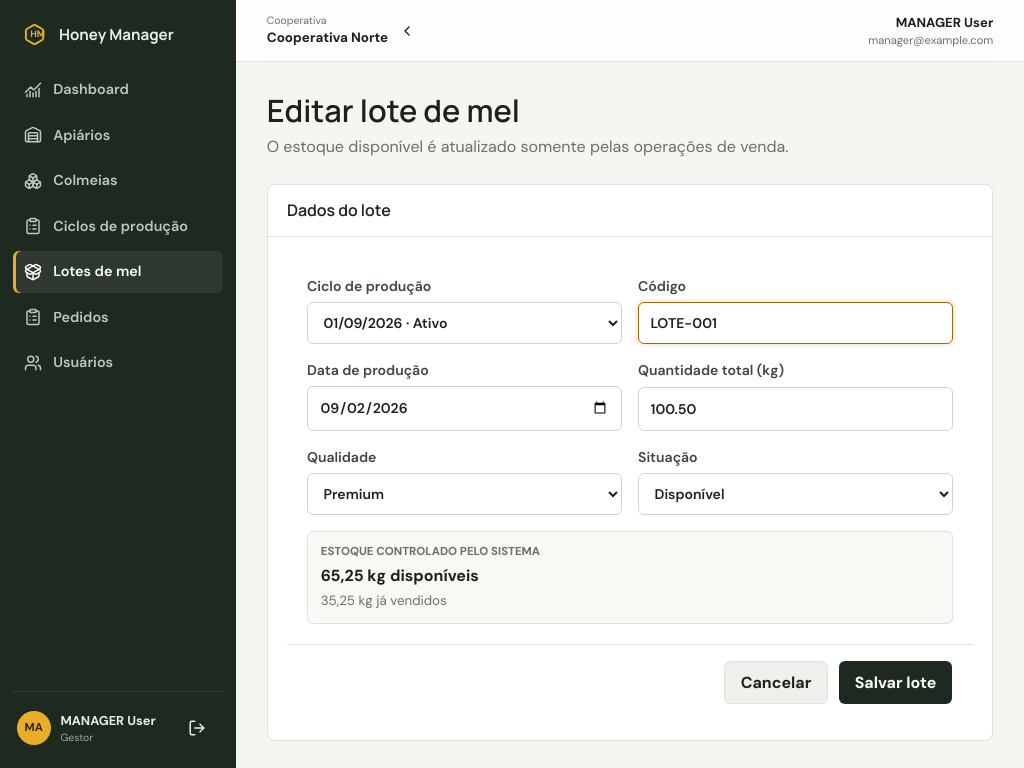
Honey Batch management › prevents reducing total quantity below stock already sold
Replace the text in the field labelled "Quantidade total (kg)" with "35.24": (796, 409) [638,387,953,430]
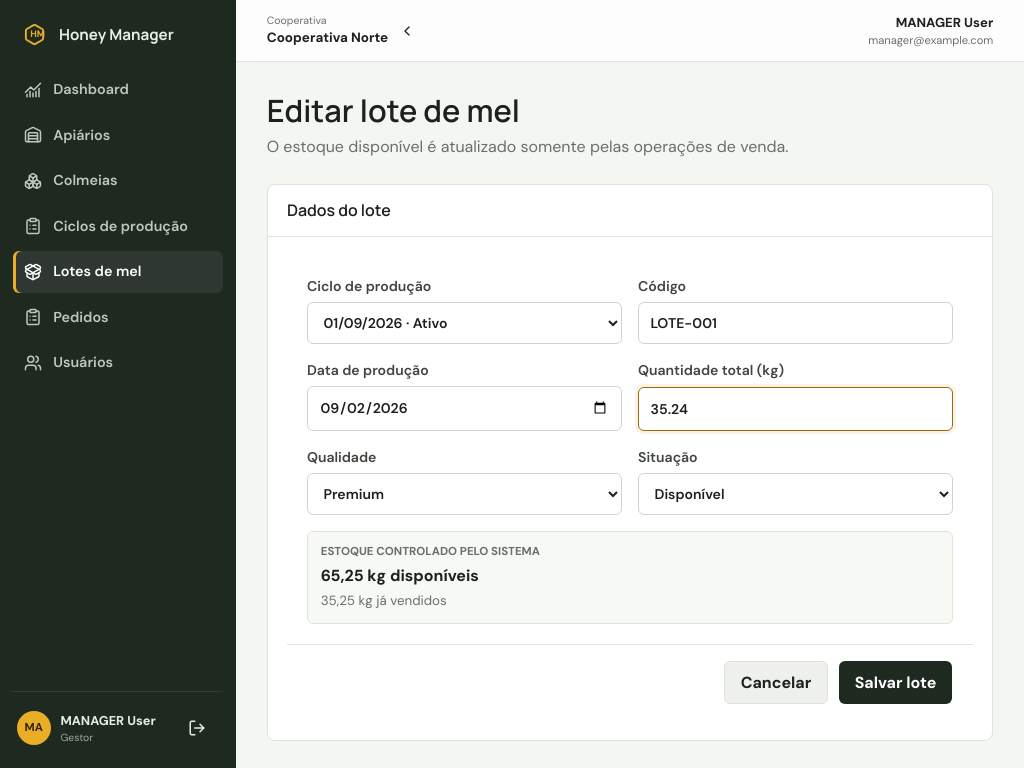
Click the button "Salvar lote": (896, 683) [839,661,952,704]
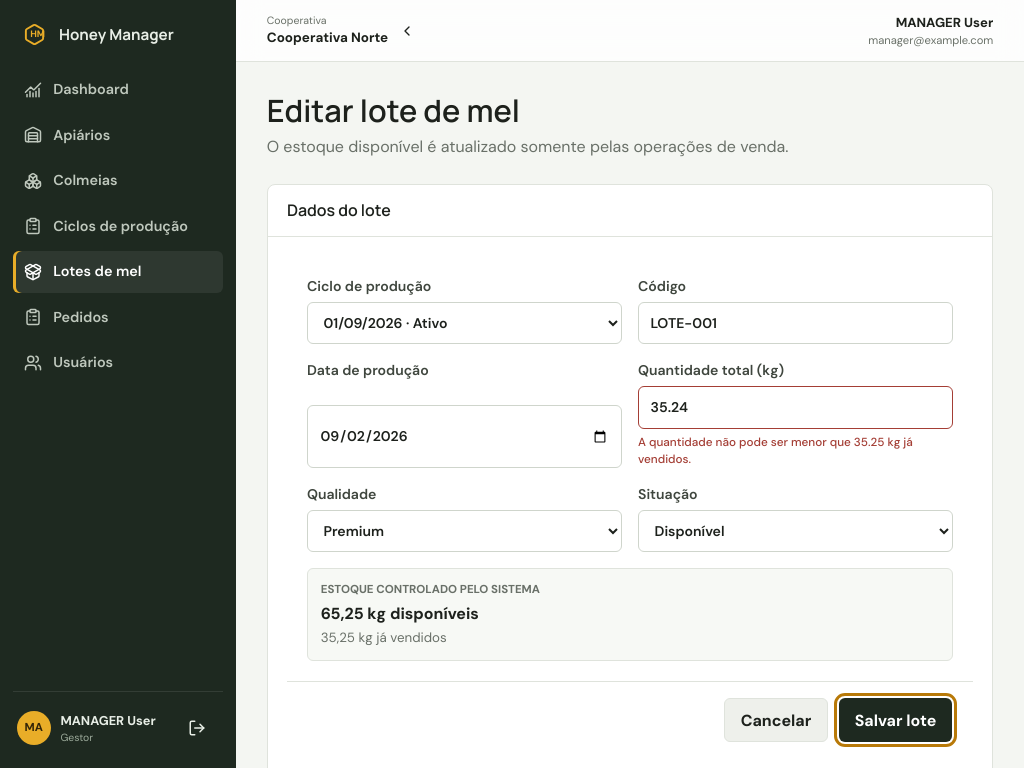
Expected: the text "65,25 kg disponíveis" is shown, [321,603,479,624]
Now the message shows "35.25 kg já vendidos", box [638,434,913,467]
